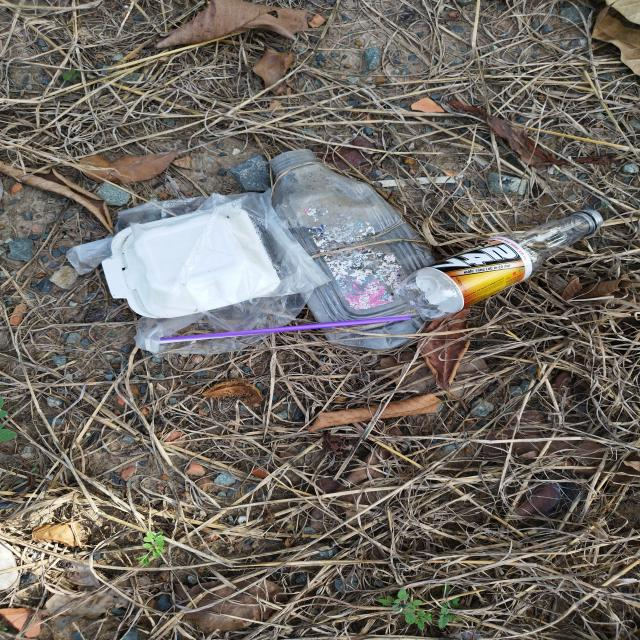bottle: (269, 149, 436, 351), (394, 209, 604, 322)
drinking straw: (159, 314, 412, 344)
foam box: (101, 208, 281, 319)
